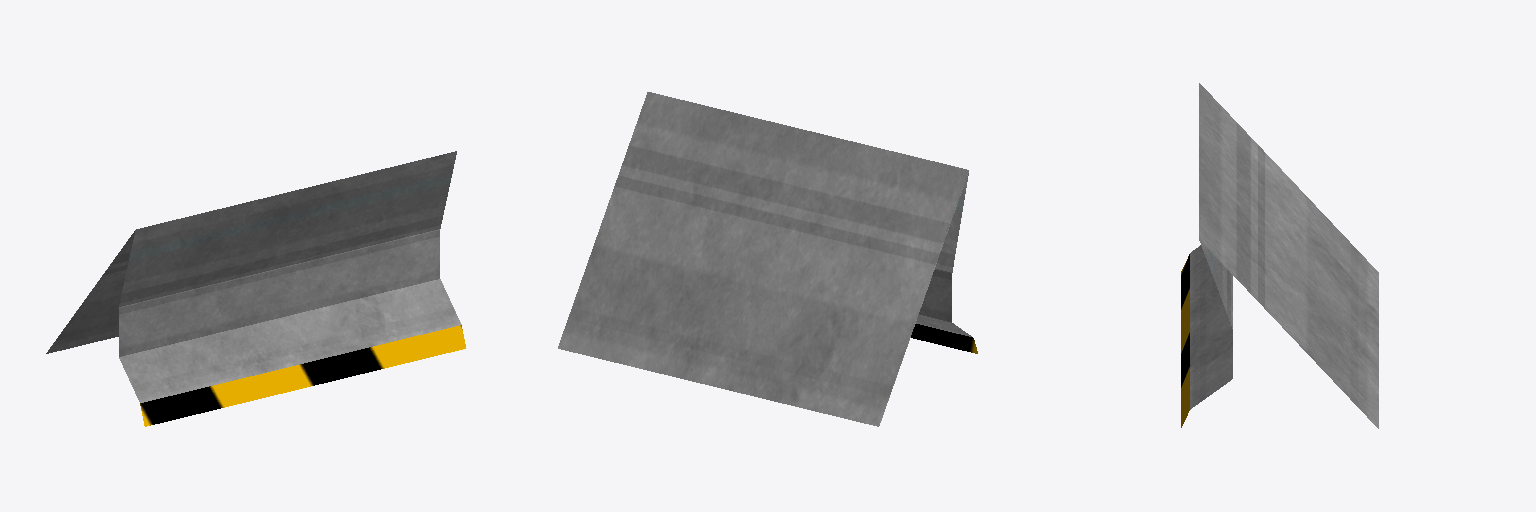
3 views of the same model, side by side, from view 1: azimuth 30°, elevation 25°; view 2: azimuth 150°, elevation 25°; view 3: azimuth 270°, elevation 25° (orthographic).
Visible parts, largest first — view 1: CurbBig2_Cube.042; view 2: CurbBig2_Cube.042; view 3: CurbBig2_Cube.042.
Boxes of the visible parts, box(x1,y1,x2,y2) form: CurbBig2_Cube.042: box(46, 151, 465, 426); CurbBig2_Cube.042: box(558, 92, 977, 426); CurbBig2_Cube.042: box(1181, 83, 1378, 428).
Size of the model in its own units: 4.65 by 2.64 by 2.49.
1 materials, 1 textured.